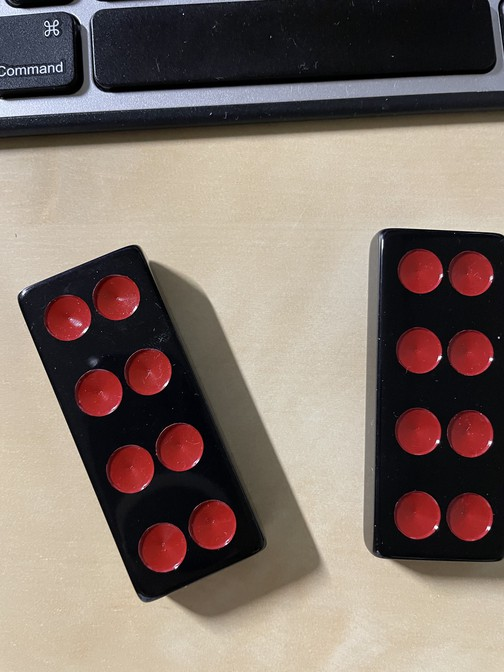man: (17, 245, 269, 604), (367, 229, 504, 561)
